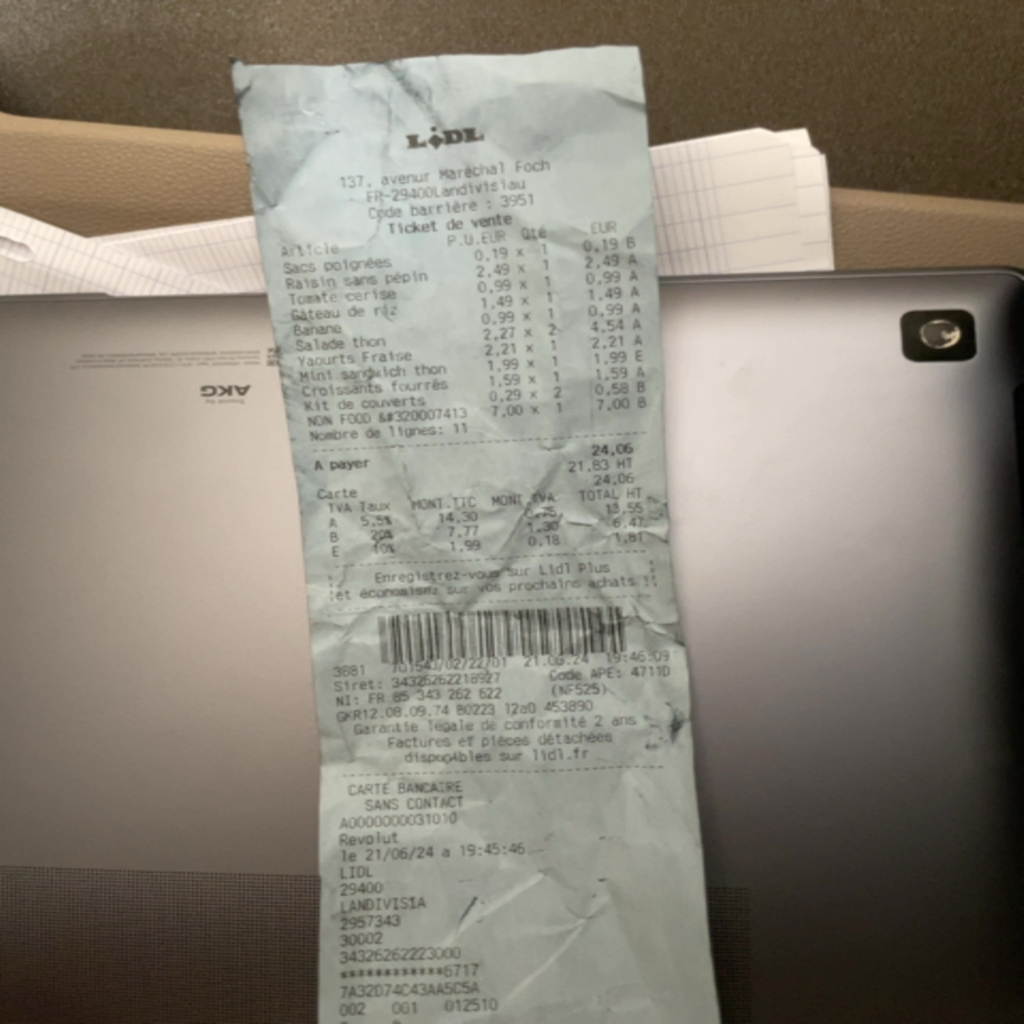recipt: (231, 44, 720, 1016)
